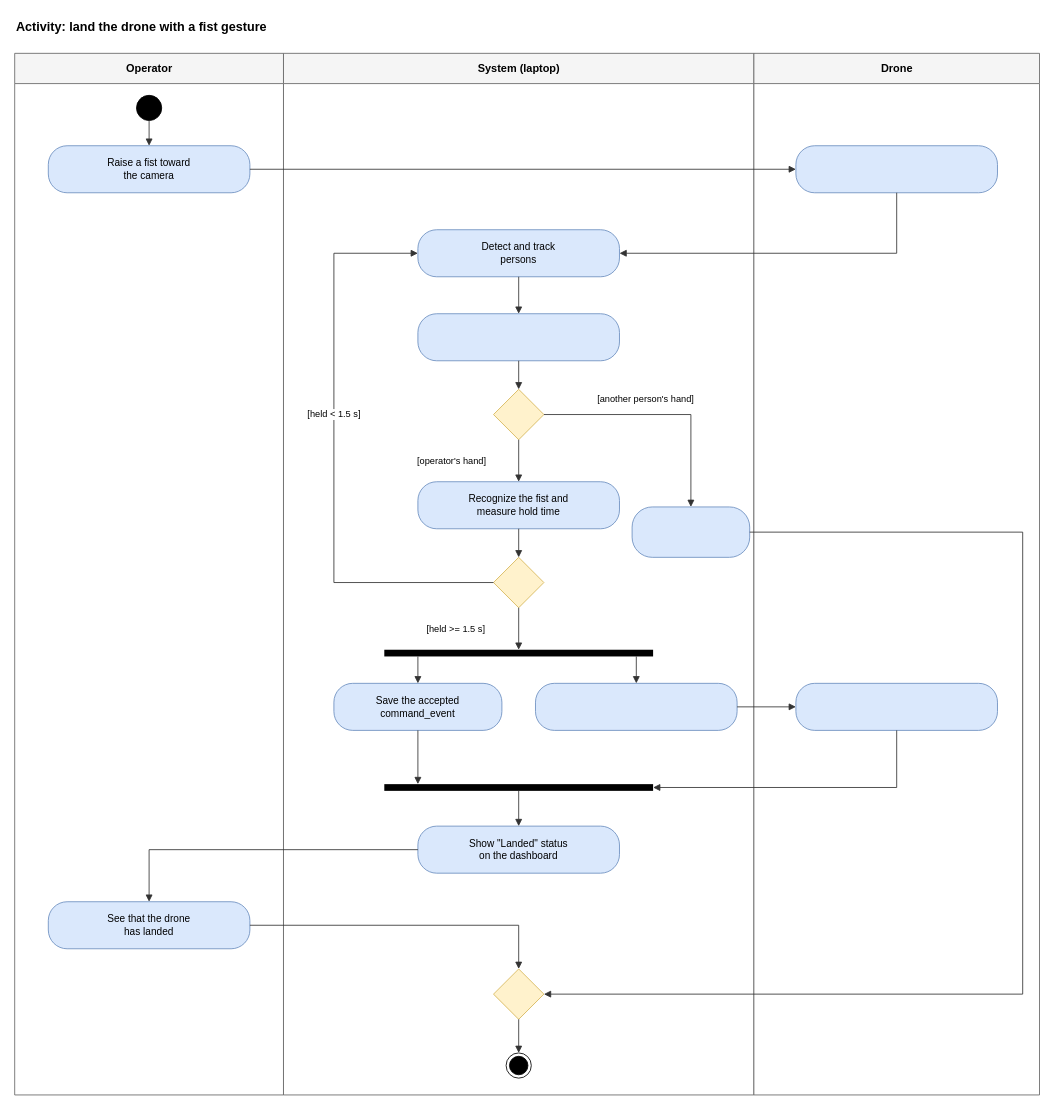
This 1054x1110 diagram has some shape labels left out. Here are the shapes that lost their labels. From the top down, the centre of each, then its label:
At (896,169): "Stream camera video".
At (518,337): "Identify whose hand it is".
At (690,531): "Log the rejected command and reason".
At (636,706): "Send the LAND command over MAVLink".
At (896,706): "Descend and land".
